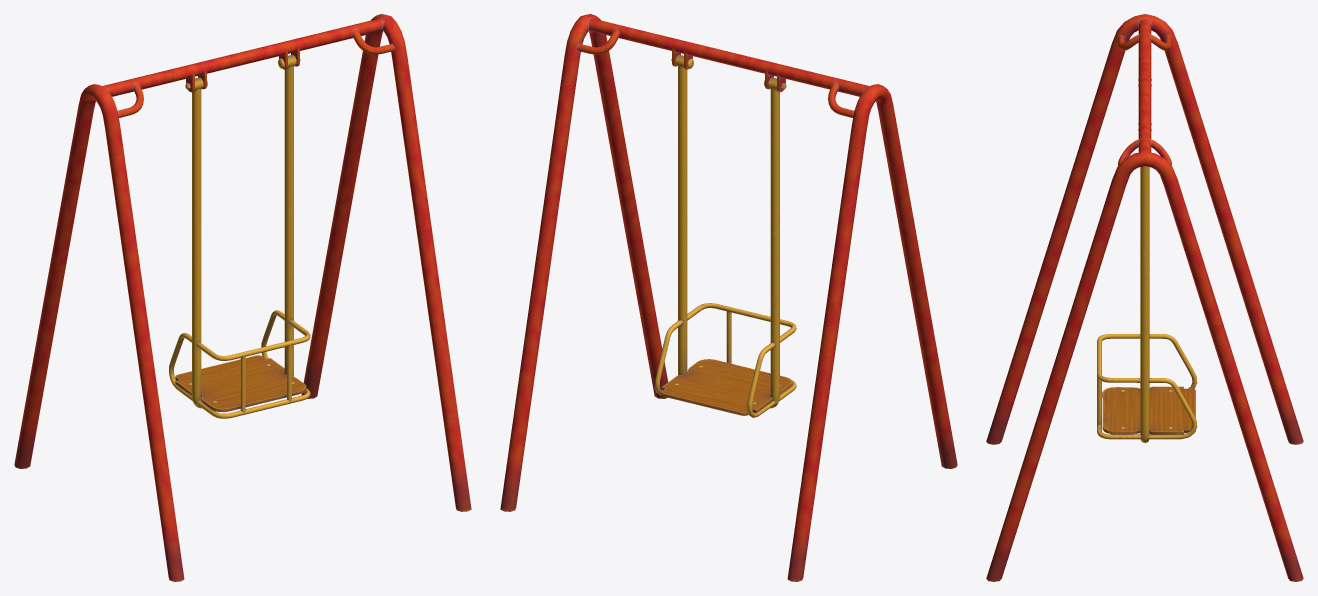
The model's file is swing.gltf.
The picture shows the model from 3 angles, left to right: view 1: azimuth 30°, elevation 25°; view 2: azimuth 150°, elevation 25°; view 3: azimuth 270°, elevation 25°; orthographic projection. The views are drawn at different scales.
Visible parts, largest first — view 1: Base, Seat, Wood; view 2: Base, Seat, Wood; view 3: Base, Seat, Wood.
Part boxes in pixels (<box>): Base: <box>14,14,471,581</box>; Seat: <box>169,54,310,418</box>; Wood: <box>175,355,306,412</box>; Base: <box>500,14,957,581</box>; Seat: <box>655,54,796,417</box>; Wood: <box>661,359,792,415</box>; Base: <box>986,14,1303,581</box>; Seat: <box>1097,166,1197,442</box>; Wood: <box>1102,386,1195,434</box>.
Bounding box in the file's own units: 1.47 × 2.03 × 1.37.
1 material, 1 textured.
